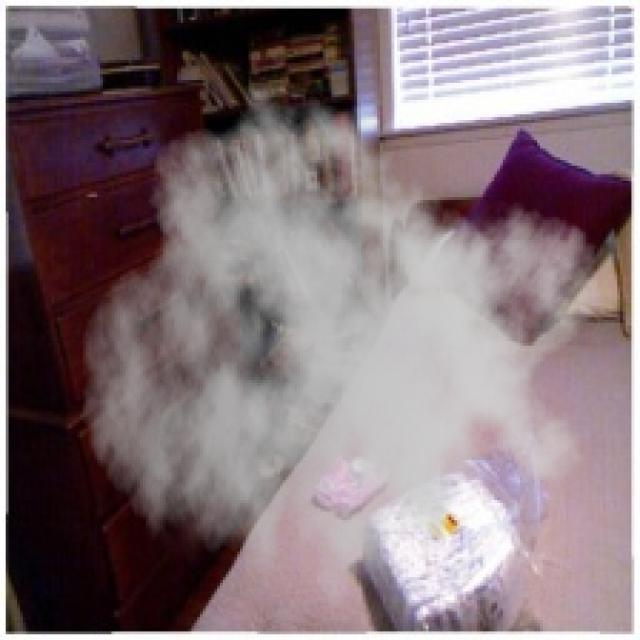Smoke: (80, 68, 603, 638)
